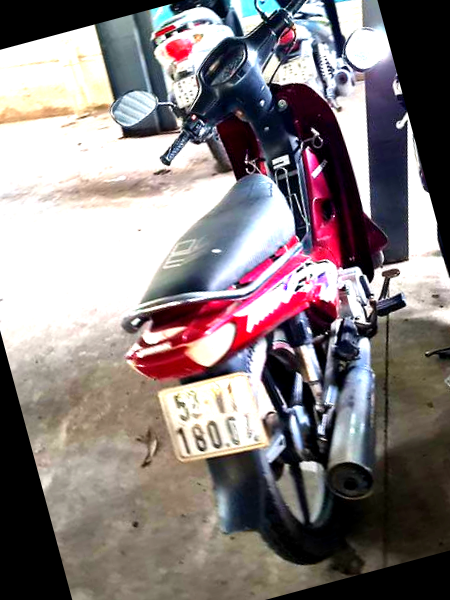number: (161, 373, 264, 460)
